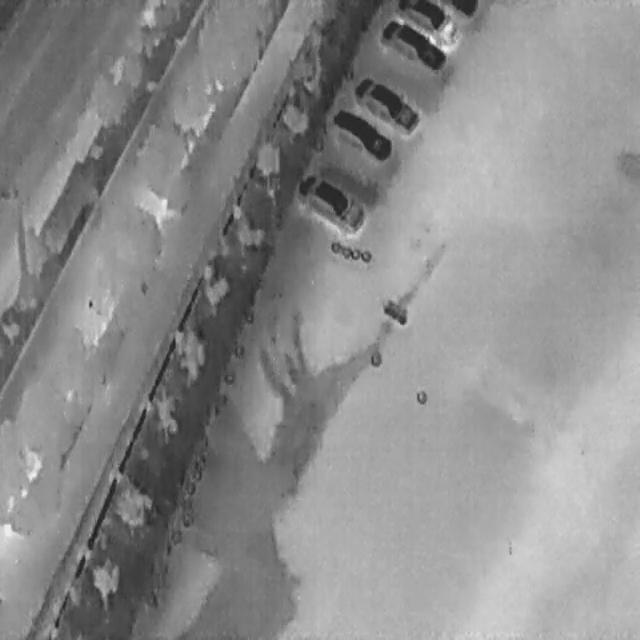Car: (289, 155, 371, 241), (347, 64, 424, 145), (374, 6, 451, 85), (325, 94, 399, 170), (396, 0, 461, 45)
